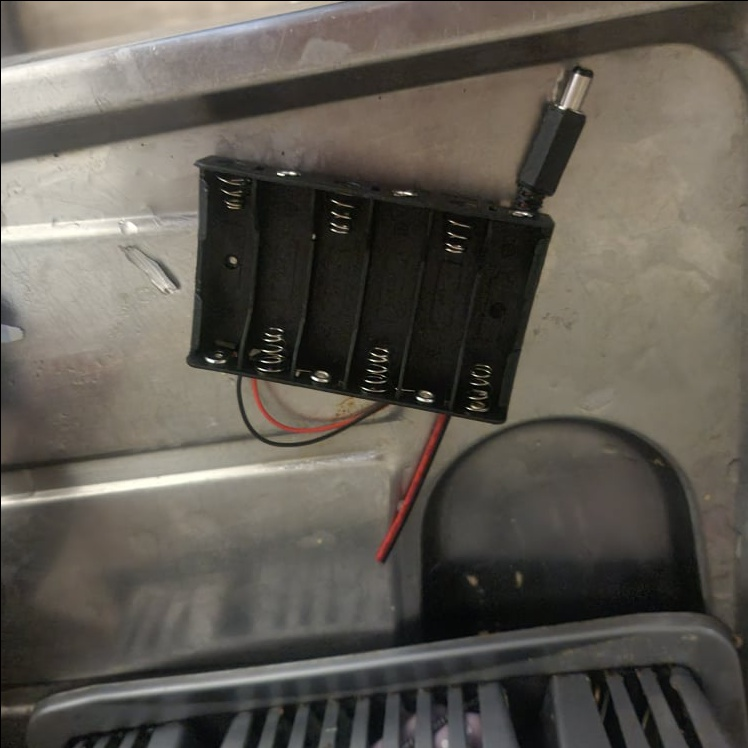BATTERY BOX: (183, 155, 548, 425)
